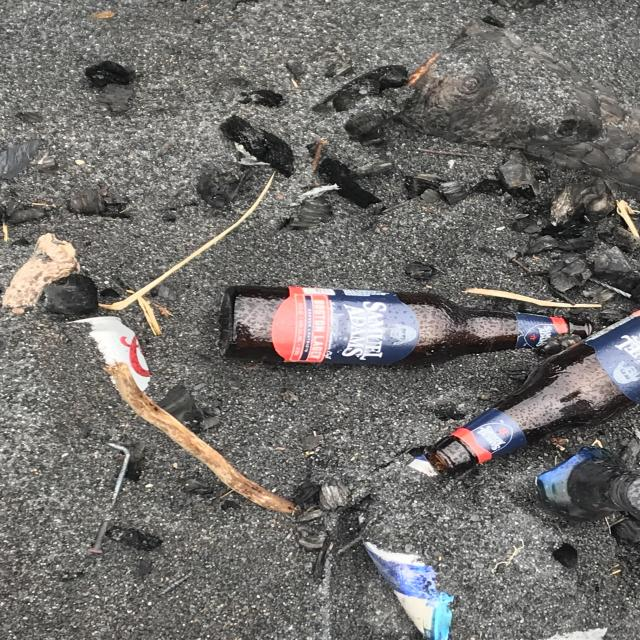glass: (420, 312, 639, 482), (223, 285, 594, 363)
